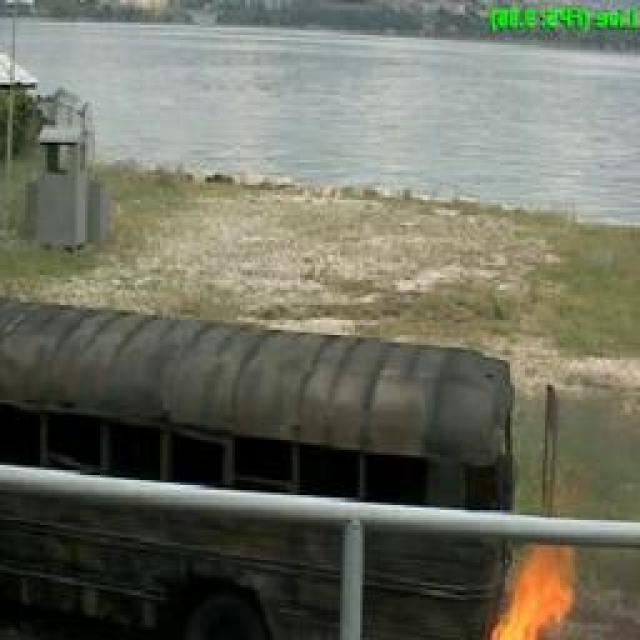Fire: (490, 550, 575, 640)
